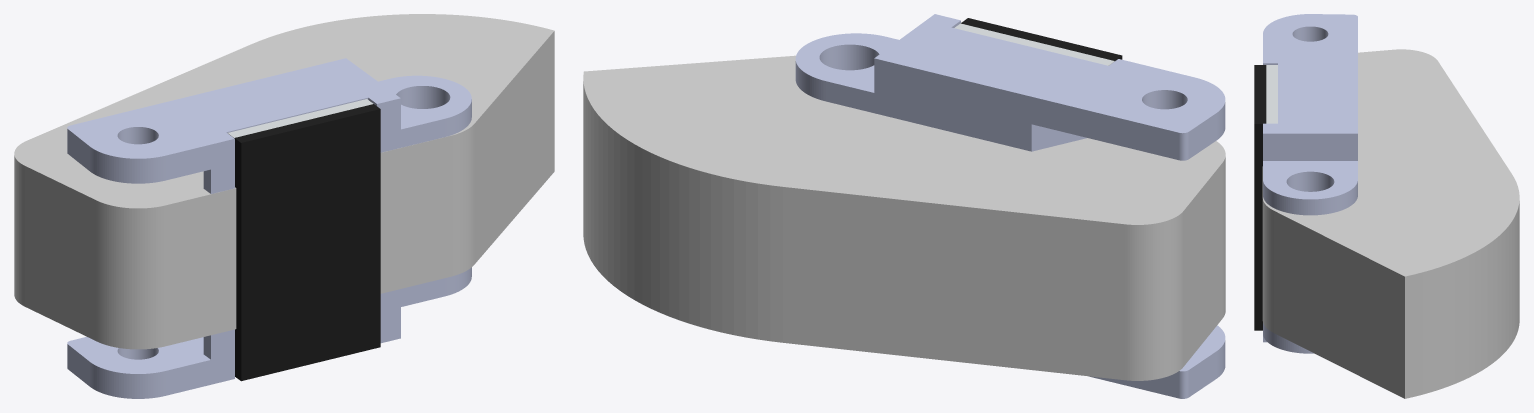
File: AGS_finger-med.dae
The picture shows the model from 3 angles, left to right: view 1: azimuth 30°, elevation 25°; view 2: azimuth 150°, elevation 25°; view 3: azimuth 270°, elevation 25°; orthographic projection. The views are drawn at different scales.
Visible parts, largest first — view 1: node_2f389ed2_55f6_46b6_9e93_c45db1063805_mesh1, node_2f389ed2_55f6_46b6_9e93_c45db1063805_mesh2, node_2f389ed2_55f6_46b6_9e93_c45db1063805_mesh0, node_2f389ed2_55f6_46b6_9e93_c45db1063805_mesh3; view 2: node_2f389ed2_55f6_46b6_9e93_c45db1063805_mesh1, node_2f389ed2_55f6_46b6_9e93_c45db1063805_mesh0, node_2f389ed2_55f6_46b6_9e93_c45db1063805_mesh2, node_2f389ed2_55f6_46b6_9e93_c45db1063805_mesh3; view 3: node_2f389ed2_55f6_46b6_9e93_c45db1063805_mesh1, node_2f389ed2_55f6_46b6_9e93_c45db1063805_mesh0, node_2f389ed2_55f6_46b6_9e93_c45db1063805_mesh2, node_2f389ed2_55f6_46b6_9e93_c45db1063805_mesh3.
Boxes of the visible parts, <box> form: node_2f389ed2_55f6_46b6_9e93_c45db1063805_mesh1: <box>14,14,554,349</box>; node_2f389ed2_55f6_46b6_9e93_c45db1063805_mesh2: <box>234,104,380,381</box>; node_2f389ed2_55f6_46b6_9e93_c45db1063805_mesh0: <box>67,58,471,398</box>; node_2f389ed2_55f6_46b6_9e93_c45db1063805_mesh3: <box>227,99,373,137</box>; node_2f389ed2_55f6_46b6_9e93_c45db1063805_mesh1: <box>583,55,1225,380</box>; node_2f389ed2_55f6_46b6_9e93_c45db1063805_mesh0: <box>795,14,1225,398</box>; node_2f389ed2_55f6_46b6_9e93_c45db1063805_mesh2: <box>961,18,1122,61</box>; node_2f389ed2_55f6_46b6_9e93_c45db1063805_mesh3: <box>954,23,1114,65</box>; node_2f389ed2_55f6_46b6_9e93_c45db1063805_mesh1: <box>1262,49,1519,398</box>; node_2f389ed2_55f6_46b6_9e93_c45db1063805_mesh0: <box>1263,14,1357,353</box>; node_2f389ed2_55f6_46b6_9e93_c45db1063805_mesh2: <box>1254,65,1266,330</box>; node_2f389ed2_55f6_46b6_9e93_c45db1063805_mesh3: <box>1266,65,1277,123</box>.
Size of the model in its own units: 71.83 by 35.42 by 30.73.
